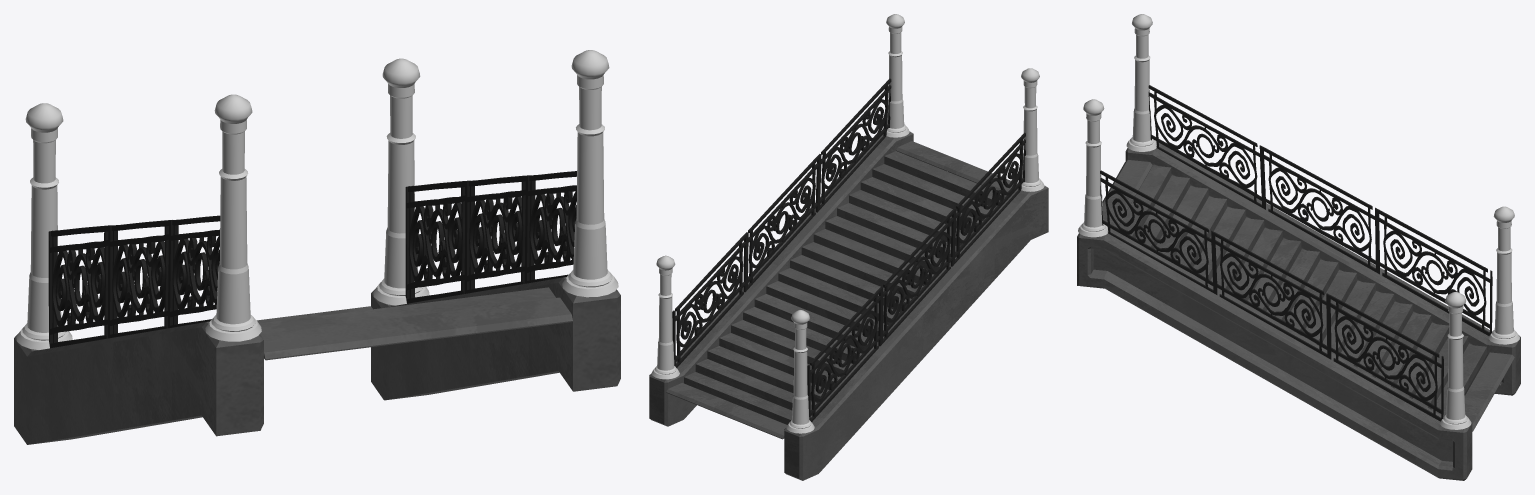
The model's file is HoD_Stairs_Single (12).fbx.
The picture shows the model from 3 angles, left to right: view 1: azimuth 30°, elevation 25°; view 2: azimuth 150°, elevation 25°; view 3: azimuth 270°, elevation 25°; orthographic projection. The views are drawn at different scales.
Parts seen in each view (by area): view 1: Bannister (×2), railing13 (1), railing13 (2), RimTop, post15 (1), post12 (2), post13 (1), post14 (1), Stairs_6Height; view 2: Stairs_6Height, Bannister (×2), railing13 (2), railing13 (1), post14 (1), post13 (1), RimBottom, post12 (2), post15 (1), RimTop; view 3: Bannister (×2), Stairs_6Height, railing13 (1), railing13 (2), post14 (1), post13 (1), post12 (2), post15 (1), RimBottom, RimTop.
Boxes of the visible parts, left/top/right/bottom form: Bannister (×2): left=14, top=277, right=620, bottom=444; railing13 (1): left=405, top=171, right=576, bottom=303; railing13 (2): left=48, top=215, right=220, bottom=348; RimTop: left=261, top=297, right=572, bottom=360; post15 (1): left=205, top=94, right=261, bottom=341; post12 (2): left=562, top=50, right=618, bottom=297; post13 (1): left=373, top=58, right=429, bottom=305; post14 (1): left=16, top=103, right=72, bottom=349; Stairs_6Height: left=259, top=287, right=555, bottom=334; Stairs_6Height: left=684, top=151, right=1005, bottom=424; Bannister (×2): left=649, top=131, right=1048, bottom=480; railing13 (2): left=807, top=132, right=1025, bottom=422; railing13 (1): left=672, top=78, right=891, bottom=367; post14 (1): left=786, top=310, right=814, bottom=433; post13 (1): left=651, top=255, right=679, bottom=379; RimBottom: left=666, top=383, right=787, bottom=439; post12 (2): left=882, top=14, right=909, bottom=137; post15 (1): left=1017, top=68, right=1044, bottom=191; RimTop: left=896, top=141, right=1016, bottom=191; Bannister (×2): left=1077, top=143, right=1520, bottom=480; Stairs_6Height: left=1117, top=164, right=1487, bottom=416; railing13 (1): left=1100, top=170, right=1443, bottom=421; railing13 (2): left=1148, top=85, right=1492, bottom=335; post14 (1): left=1488, top=206, right=1519, bottom=344; post13 (1): left=1440, top=292, right=1471, bottom=429; post12 (2): left=1078, top=99, right=1108, bottom=237; post15 (1): left=1126, top=14, right=1156, bottom=151; RimBottom: left=1464, top=352, right=1514, bottom=431; RimTop: left=1102, top=160, right=1152, bottom=227.
Size of what is drawn, in the model's own units: 11.28 by 13.05 by 15.5.
